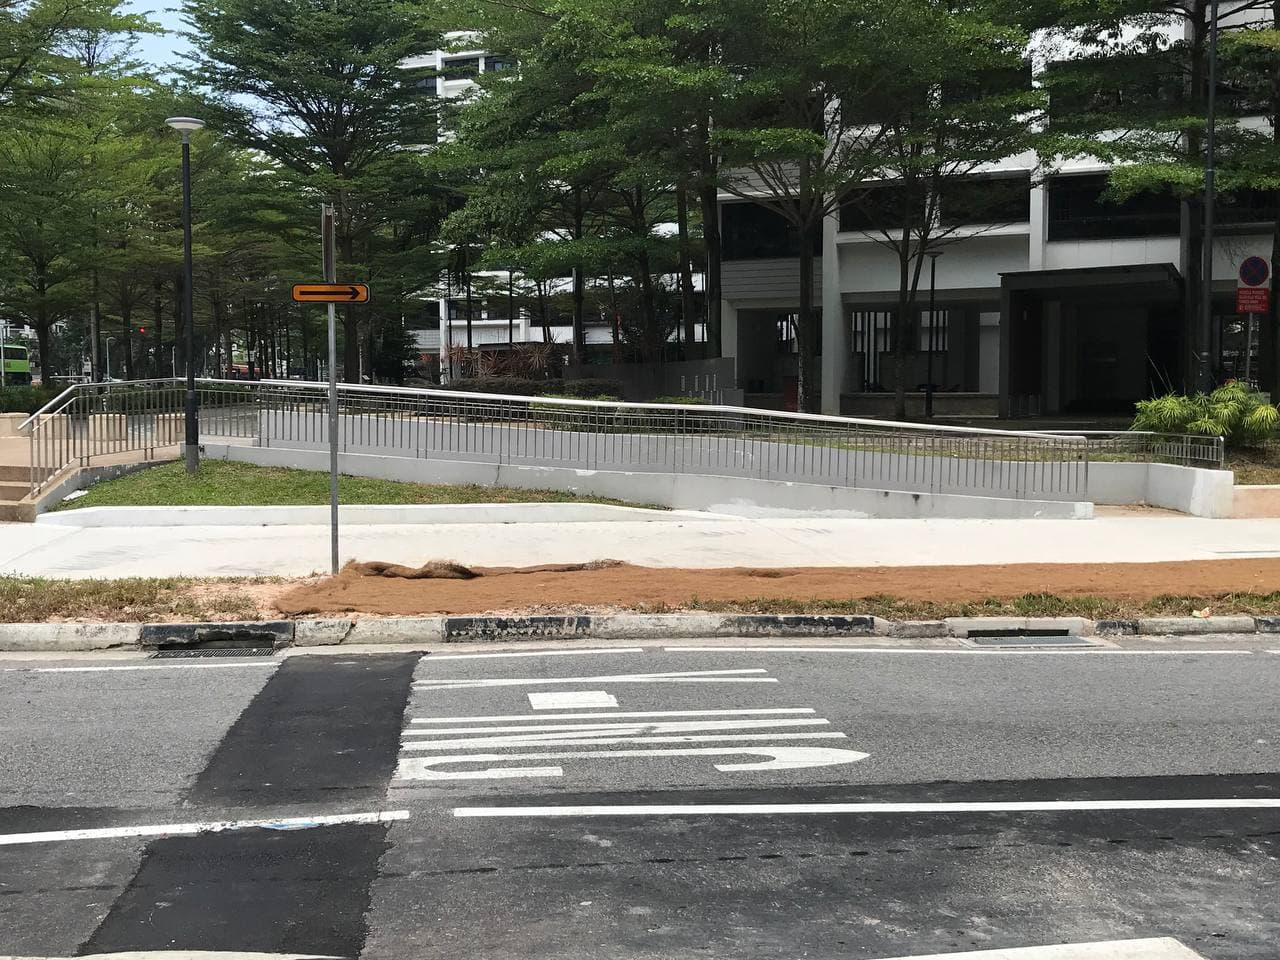slopes: (180, 334, 1235, 558)
